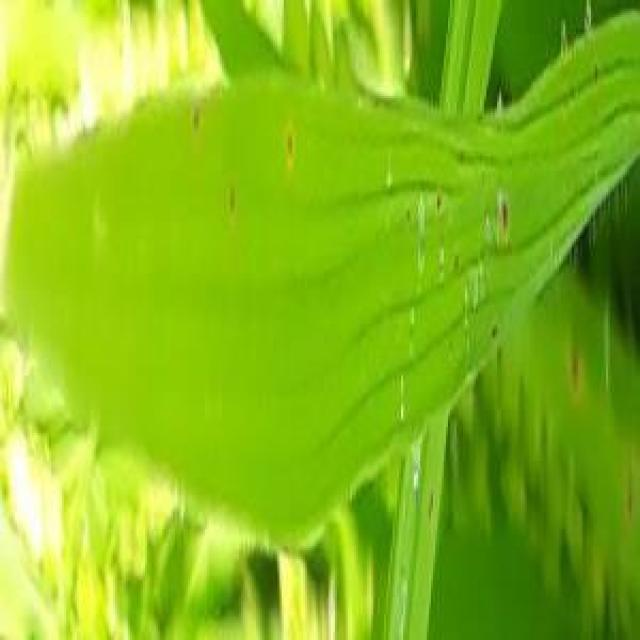Brown_Spot: (487, 198, 523, 238), (562, 343, 584, 390), (282, 129, 300, 161), (220, 191, 242, 213), (484, 326, 497, 340)
